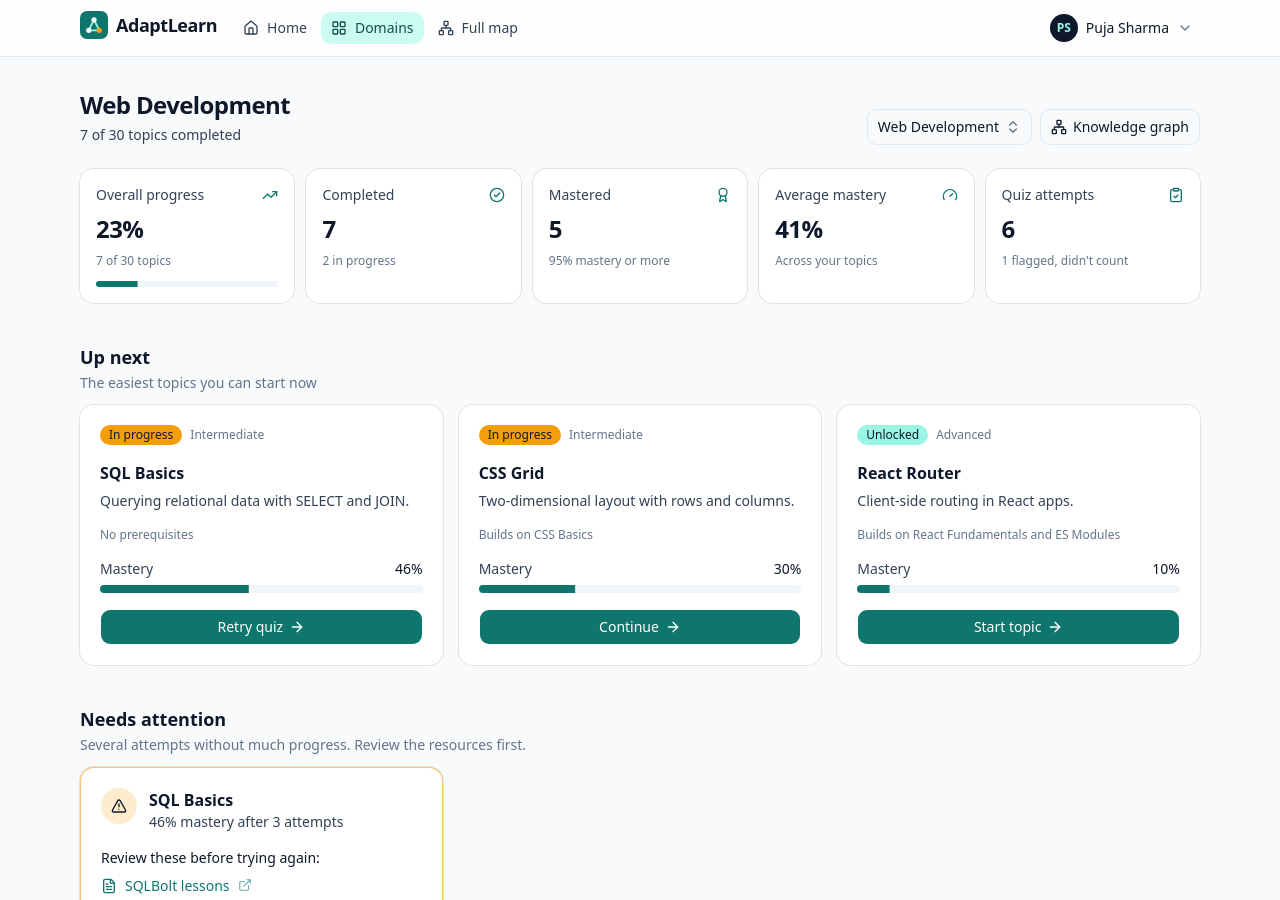
Scenario: domains › switches between joined domains from the header, keeping the dashboard view
This screenshot has width=1280, height=900.
Expected: the element named "Your progress" is shown, [80,169,1200,303]
Click the button with aria-label "Web Development: switch domain" at (949, 127), box [867,109,1032,145]
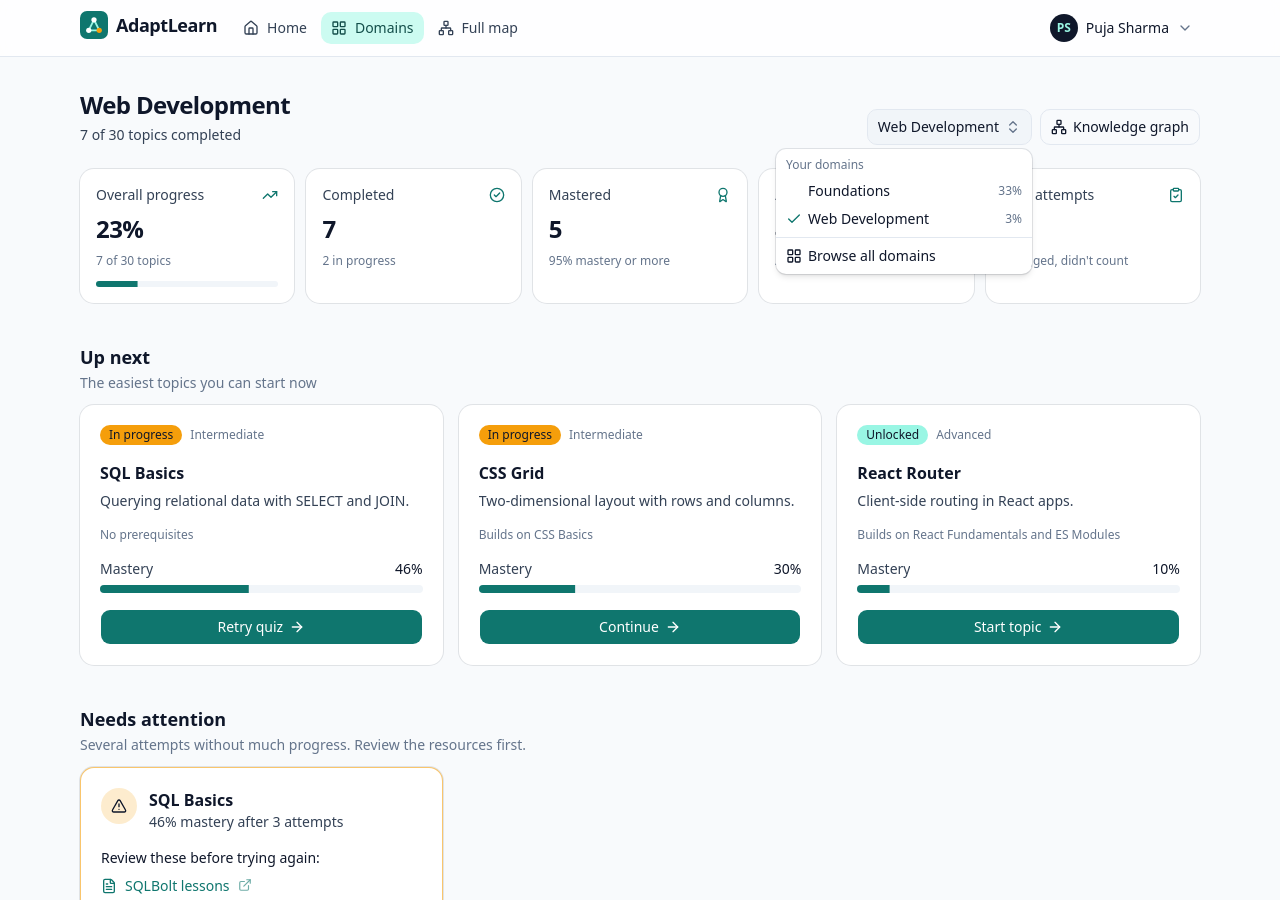
Now the menu items read "Foundations33%", "Web Development3%", "Browse all domains", in this order
Click the menu item "Foundations 33%" at (849, 190), box [780,177,1028,205]
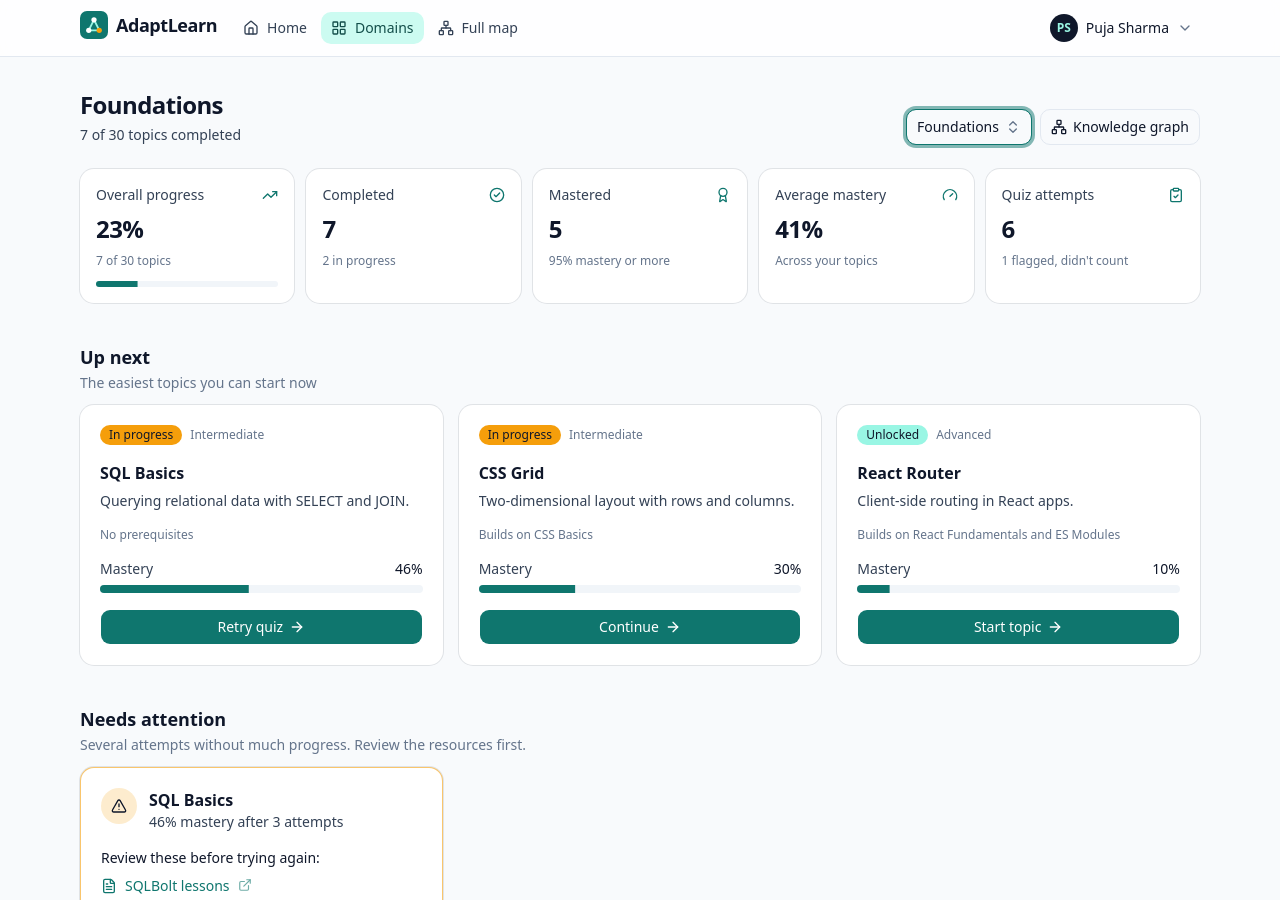
Now the heading "Foundations" is shown, box [80,89,241,121]
